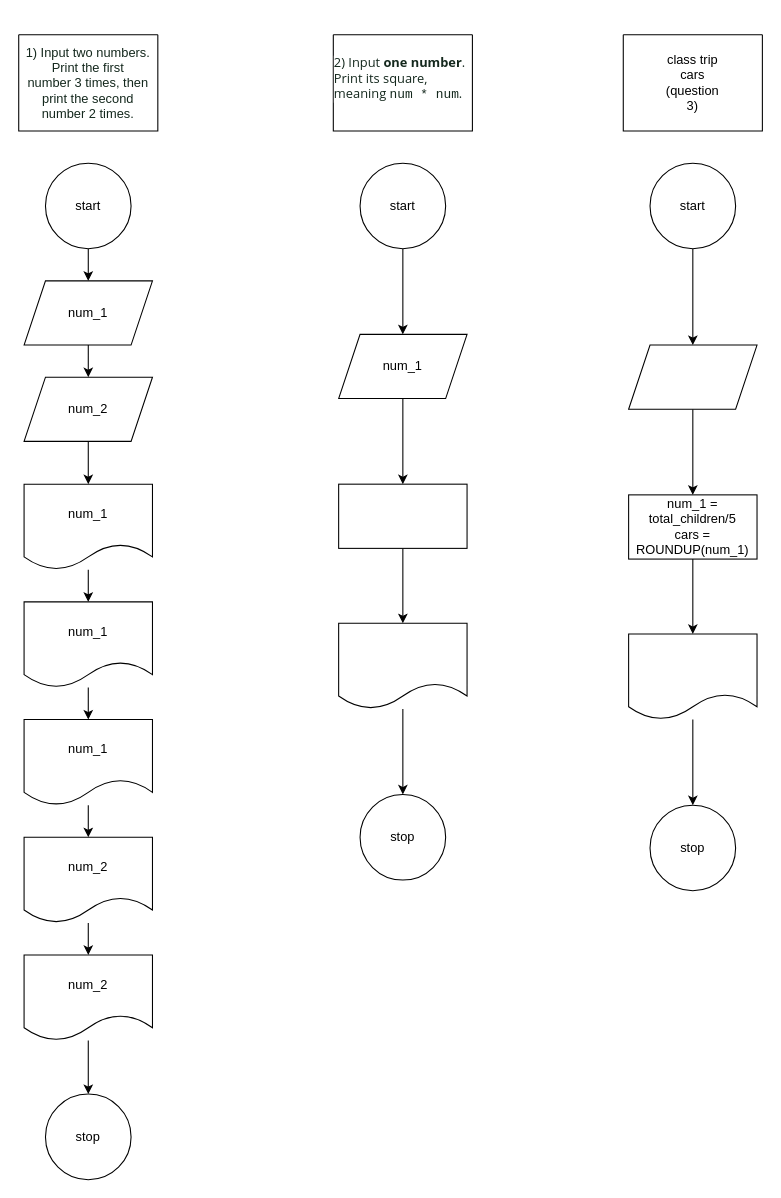
Some shapes in this 781 by 1198 pixel diagram are drawn without their labels. The shapes that lost their labels are listed below. From the top down, each one's box as (x1, y1, x2, y2) in pixels, then its label:
(628, 344, 757, 409): total_children
(338, 483, 467, 548): num_squared = num_1*num_1
(338, 622, 467, 709): num_squared
(628, 633, 757, 720): cars, "cars are needed"
